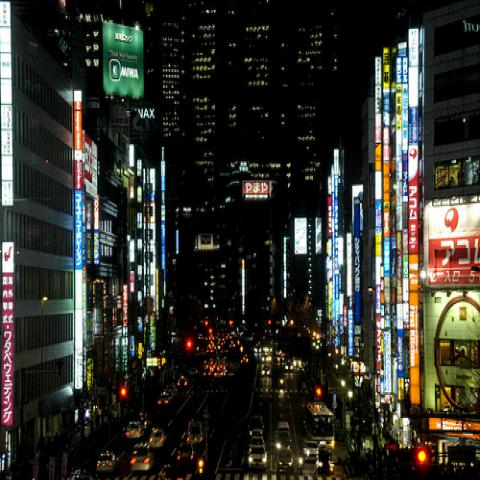bus: (307, 403, 335, 448)
car: (163, 270, 338, 478), (130, 443, 154, 471), (248, 443, 268, 474), (96, 450, 120, 474), (276, 446, 294, 474), (149, 429, 168, 448), (275, 432, 292, 453), (125, 422, 144, 439), (188, 418, 201, 442), (248, 428, 265, 443), (157, 394, 173, 407), (177, 377, 188, 388), (262, 366, 270, 378), (286, 361, 294, 372)
